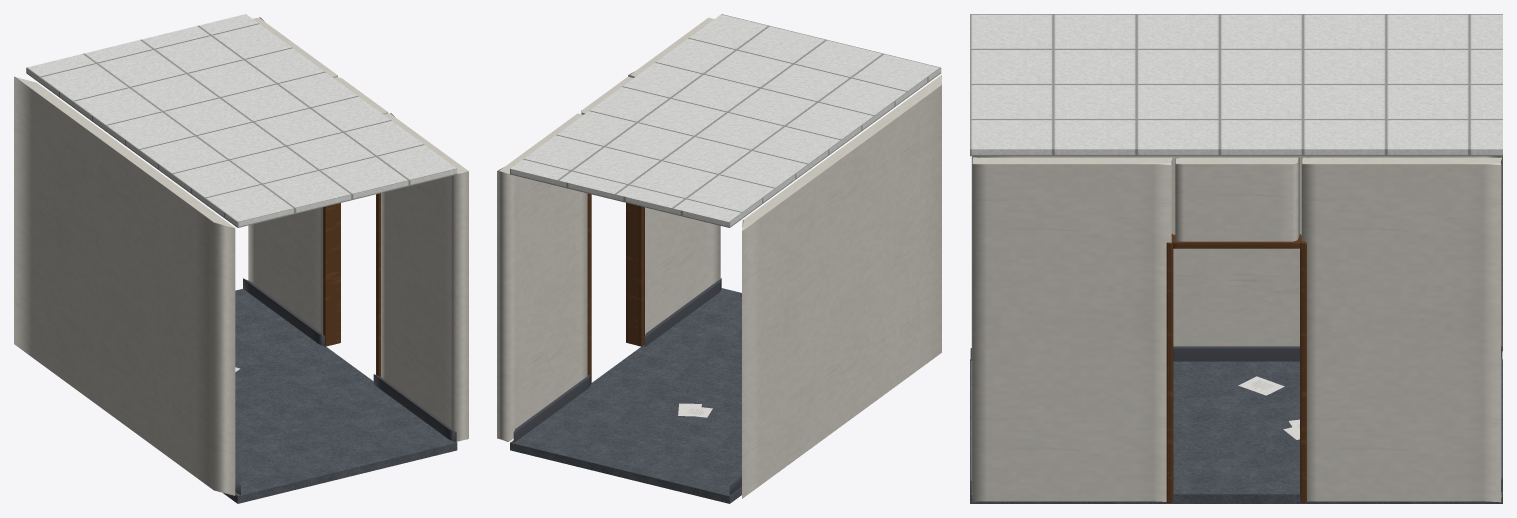
File: hallway_door.glb
3 renders of one model, left to right at view 1: azimuth 30°, elevation 25°; view 2: azimuth 150°, elevation 25°; view 3: azimuth 270°, elevation 25°, orthographic. The views are drawn at different scales.
Visible parts, largest first — view 1: Hallway_Door; view 2: Hallway_Door; view 3: Hallway_Door.
Boxes of the visible parts, x1,y1,x2,y2 form: Hallway_Door: (14, 14, 468, 503); Hallway_Door: (497, 14, 941, 503); Hallway_Door: (970, 14, 1502, 503).
Size of the model in its own units: 2.7 by 2.94 by 4.
8 materials, 6 textured.
